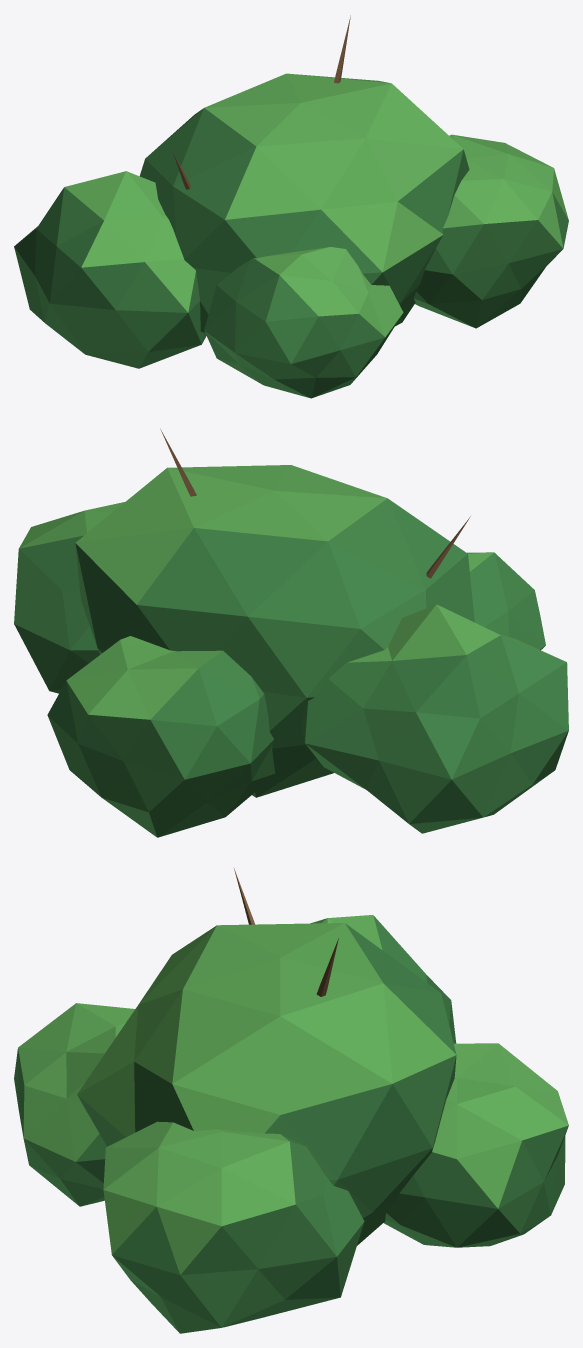
File: bush_b.glb
The picture shows the model from 3 angles, top to bottom: view 1: azimuth 30°, elevation 25°; view 2: azimuth 150°, elevation 25°; view 3: azimuth 270°, elevation 25°; orthographic projection. The views are drawn at different scales.
Parts seen in each view (by area): view 1: bush_b; view 2: bush_b; view 3: bush_b.
Boxes of the visible parts, x1,y1,x2,y2 form: bush_b: [14, 15, 568, 398]; bush_b: [14, 429, 568, 837]; bush_b: [14, 868, 568, 1333].
Size of the model in its own units: 2.93 by 1.61 by 2.36.
